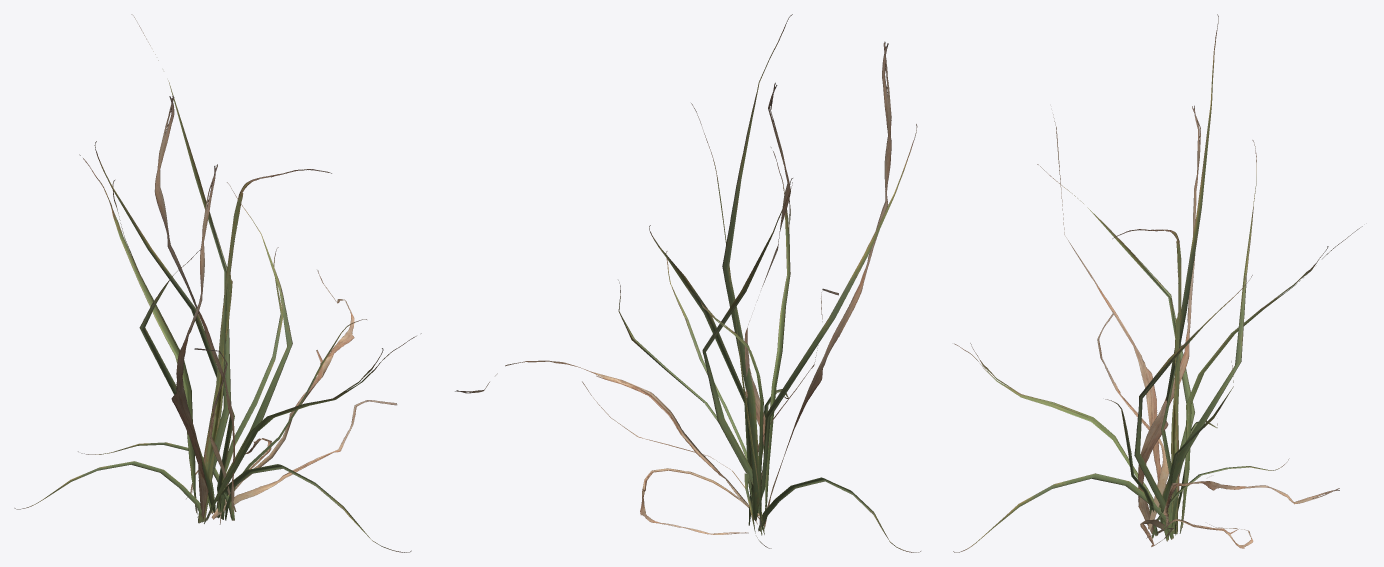
File: grass_medium_02_a.gltf
3 views of the same model, side by side, from view 1: azimuth 30°, elevation 25°; view 2: azimuth 150°, elevation 25°; view 3: azimuth 270°, elevation 25° (orthographic). The views are drawn at different scales.
Parts seen in each view (by area): view 1: grass_medium_02_a__x; view 2: grass_medium_02_a__x; view 3: grass_medium_02_a__x.
Part boxes in pixels (x1,y1,x2,y2): grass_medium_02_a__x: (14, 14, 421, 552); grass_medium_02_a__x: (455, 14, 920, 552); grass_medium_02_a__x: (953, 14, 1362, 552).
Bounding box in the file's own units: 0.1191 × 0.1569 × 0.1198.
Materials: 1 (1 with a texture image).
